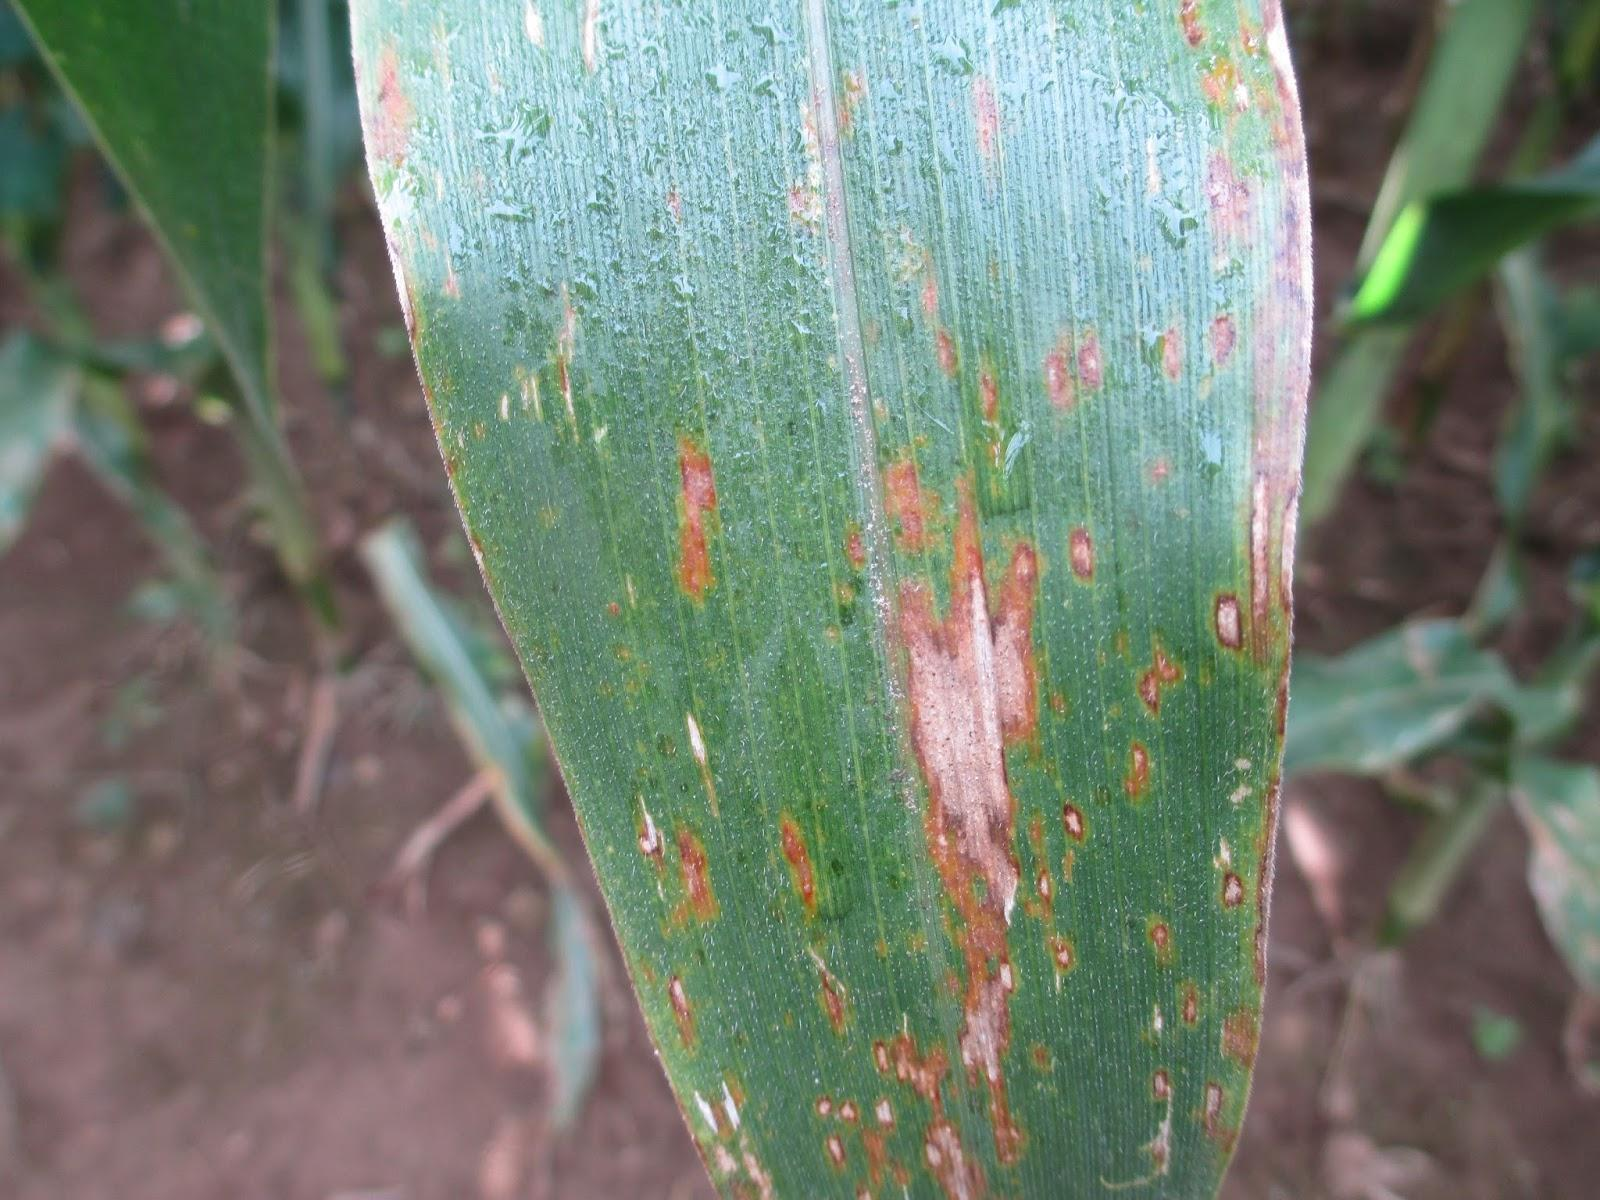Corn leaf blight: (326, 1, 1351, 1196)
